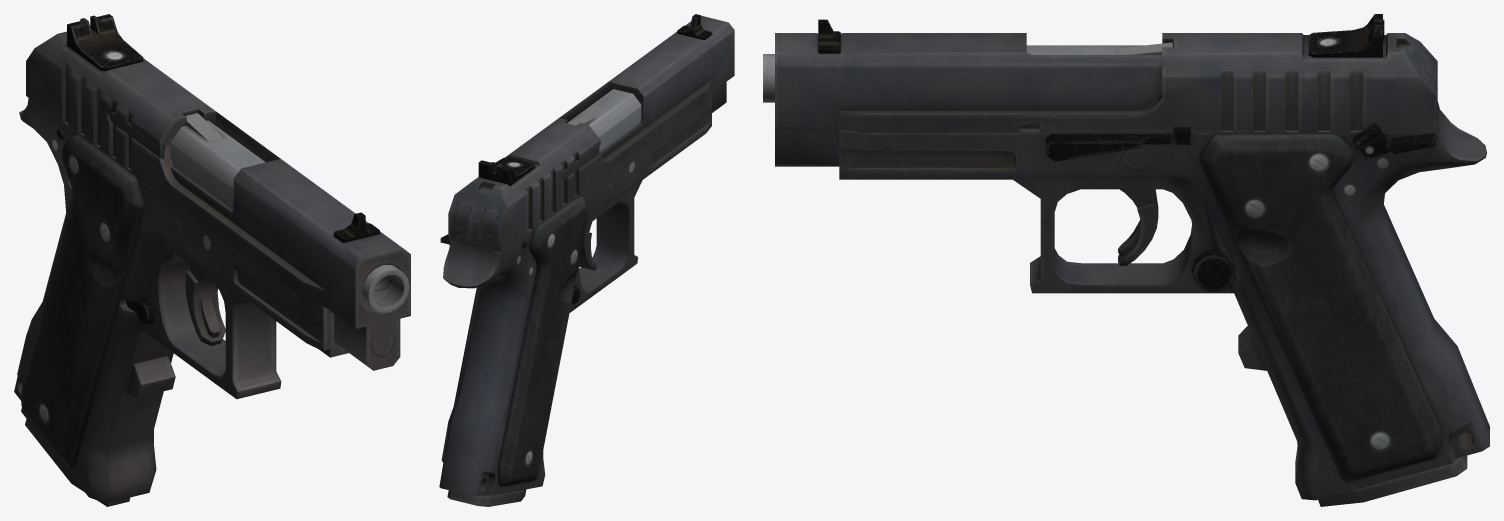
Rendered from pistol.fbx.
The picture shows the model from 3 angles, left to right: view 1: azimuth 30°, elevation 25°; view 2: azimuth 150°, elevation 25°; view 3: azimuth 270°, elevation 25°; orthographic projection. The views are drawn at different scales.
Parts seen in each view (by area): view 1: lower, slide, trigger, mag; view 2: lower, slide, mag, trigger; view 3: lower, slide, mag, trigger.
Part boxes in pixels (box(x1,y1,x2,y2)): lower: box(14, 98, 409, 503); slide: box(26, 14, 410, 370); trigger: box(185, 265, 225, 345); mag: box(25, 419, 129, 506); lower: box(439, 89, 711, 495); slide: box(448, 14, 734, 252); mag: box(447, 489, 526, 506); trigger: box(579, 221, 596, 270); lower: box(763, 42, 1489, 500); slide: box(775, 14, 1437, 166); mag: box(1318, 455, 1467, 506); trigger: box(1118, 189, 1158, 266).
Size of the model in its own units: 4.43 by 21.42 by 29.37.
